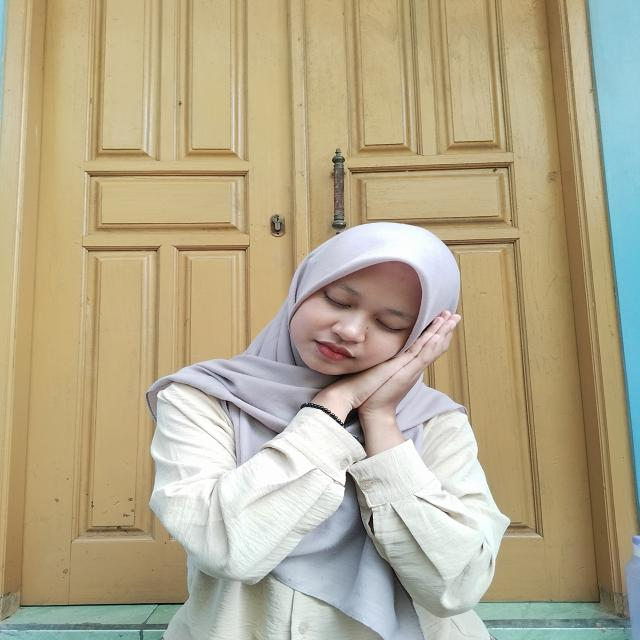tidur: (273, 305, 465, 451)
